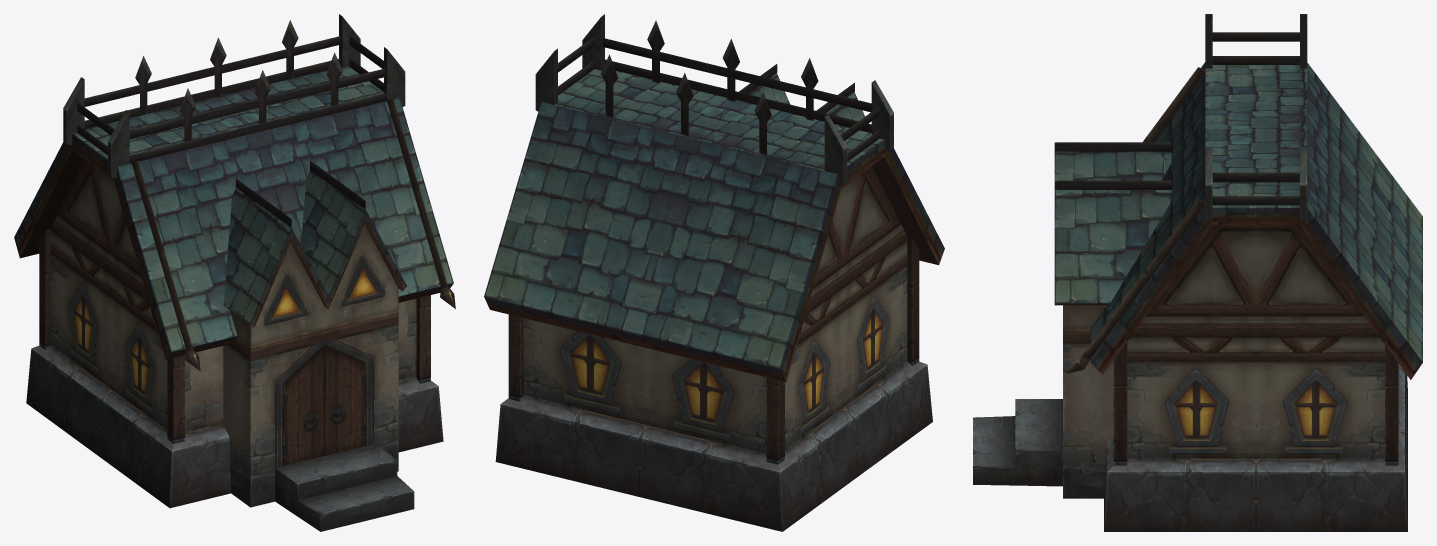
The model's file is building_underground_minfang02.FBX.
3 renders of one model, left to right at view 1: azimuth 30°, elevation 25°; view 2: azimuth 150°, elevation 25°; view 3: azimuth 270°, elevation 25°, orthographic. The views are drawn at different scales.
Parts seen in each view (by area): view 1: building_underground_minfang02; view 2: building_underground_minfang02; view 3: building_underground_minfang02.
Part boxes in pixels (bbox=[...]): building_underground_minfang02: bbox=[14, 14, 455, 531]; building_underground_minfang02: bbox=[484, 14, 944, 531]; building_underground_minfang02: bbox=[973, 14, 1422, 531].
Size of the model in its own units: 6.76 by 8.07 by 8.47.
